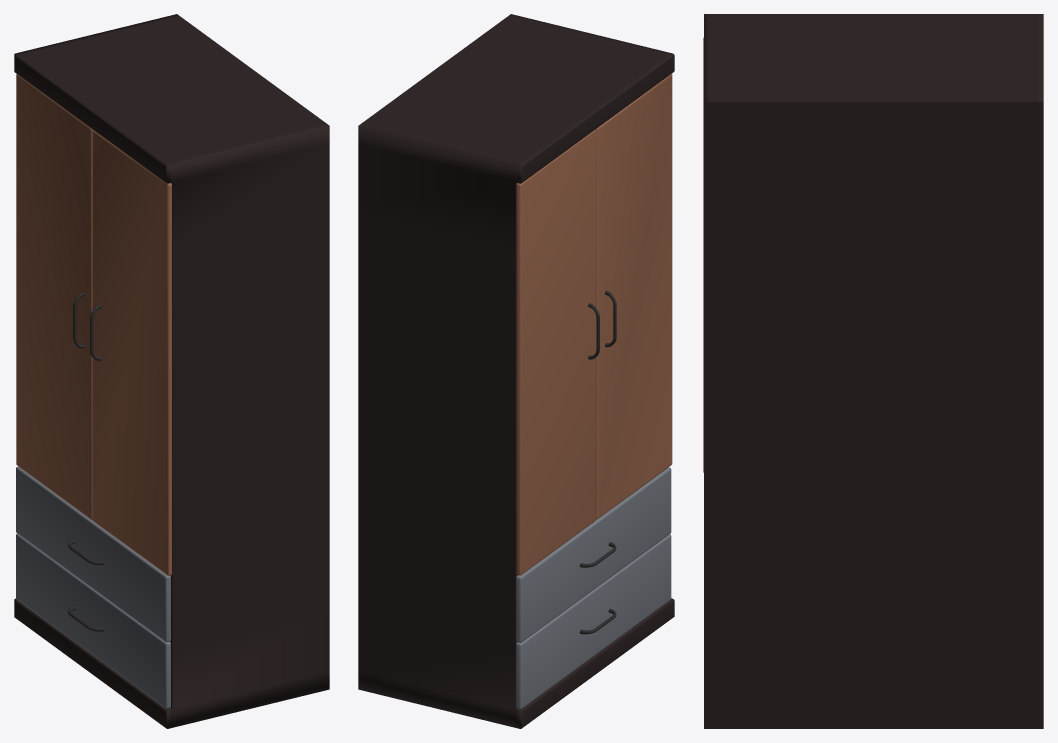
Rendered from Wardrobe.fbx.
The picture shows the model from 3 angles, left to right: view 1: azimuth 30°, elevation 25°; view 2: azimuth 150°, elevation 25°; view 3: azimuth 270°, elevation 25°; orthographic projection. The views are drawn at different scales.
Parts seen in each view (by area): view 1: WardrobeBody, WardrobeDoorRight, WardrobeDoorLeft, WardrobeDrawer1, WardrobeDrawer2; view 2: WardrobeBody, WardrobeDoorLeft, WardrobeDoorRight, WardrobeDrawer1, WardrobeDrawer2; view 3: WardrobeBody.
Part boxes in pixels (box(x1,y1,x2,y2)): WardrobeBody: box(14, 14, 329, 728); WardrobeDoorRight: box(90, 130, 171, 575); WardrobeDoorLeft: box(16, 74, 92, 519); WardrobeDrawer1: box(16, 466, 170, 642); WardrobeDrawer2: box(16, 533, 170, 708); WardrobeBody: box(358, 14, 674, 728); WardrobeDoorLeft: box(516, 129, 599, 575); WardrobeDoorRight: box(595, 73, 672, 519); WardrobeDrawer1: box(516, 467, 671, 642); WardrobeDrawer2: box(516, 534, 671, 709); WardrobeBody: box(704, 14, 1043, 728).
Bounding box in the file's own units: 122 × 378 × 186.
